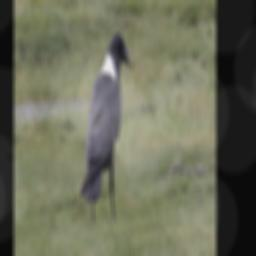Crow: (80, 31, 129, 220)
